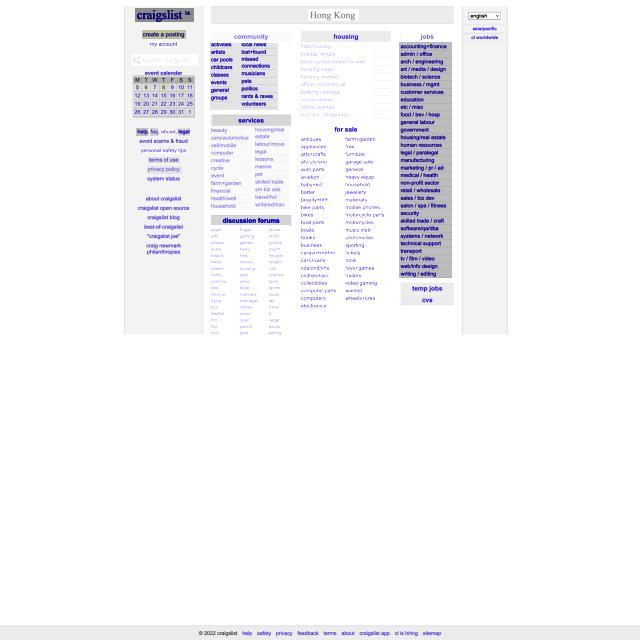CheckBox: (142, 30, 186, 39), (140, 148, 188, 154), (147, 166, 182, 174), (150, 41, 179, 48), (148, 157, 180, 163), (136, 128, 148, 136), (178, 128, 190, 136), (161, 129, 175, 135), (150, 128, 158, 136)
CheckedTextView: (132, 54, 198, 66)
USP: (133, 75, 195, 118)
alert: (469, 12, 502, 20)
breadcrumbs: (211, 30, 291, 43), (301, 124, 392, 135), (211, 214, 292, 226), (212, 114, 291, 126), (302, 32, 391, 42), (401, 31, 454, 42)
date picker: (135, 8, 194, 22)
decoration: (300, 135, 389, 312), (399, 42, 452, 278), (211, 225, 290, 340), (210, 126, 290, 210), (301, 42, 373, 121), (210, 44, 278, 112)
image: (308, 9, 359, 21)
